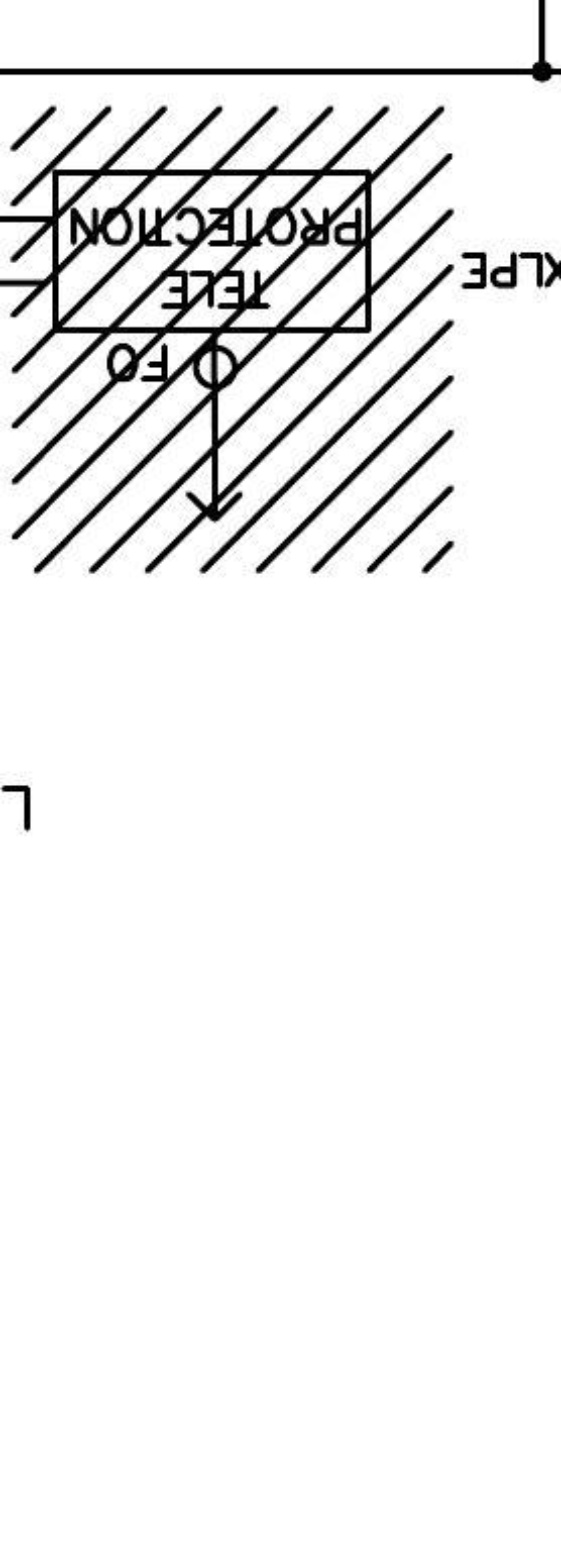tele_protection: (47, 164, 377, 338)
